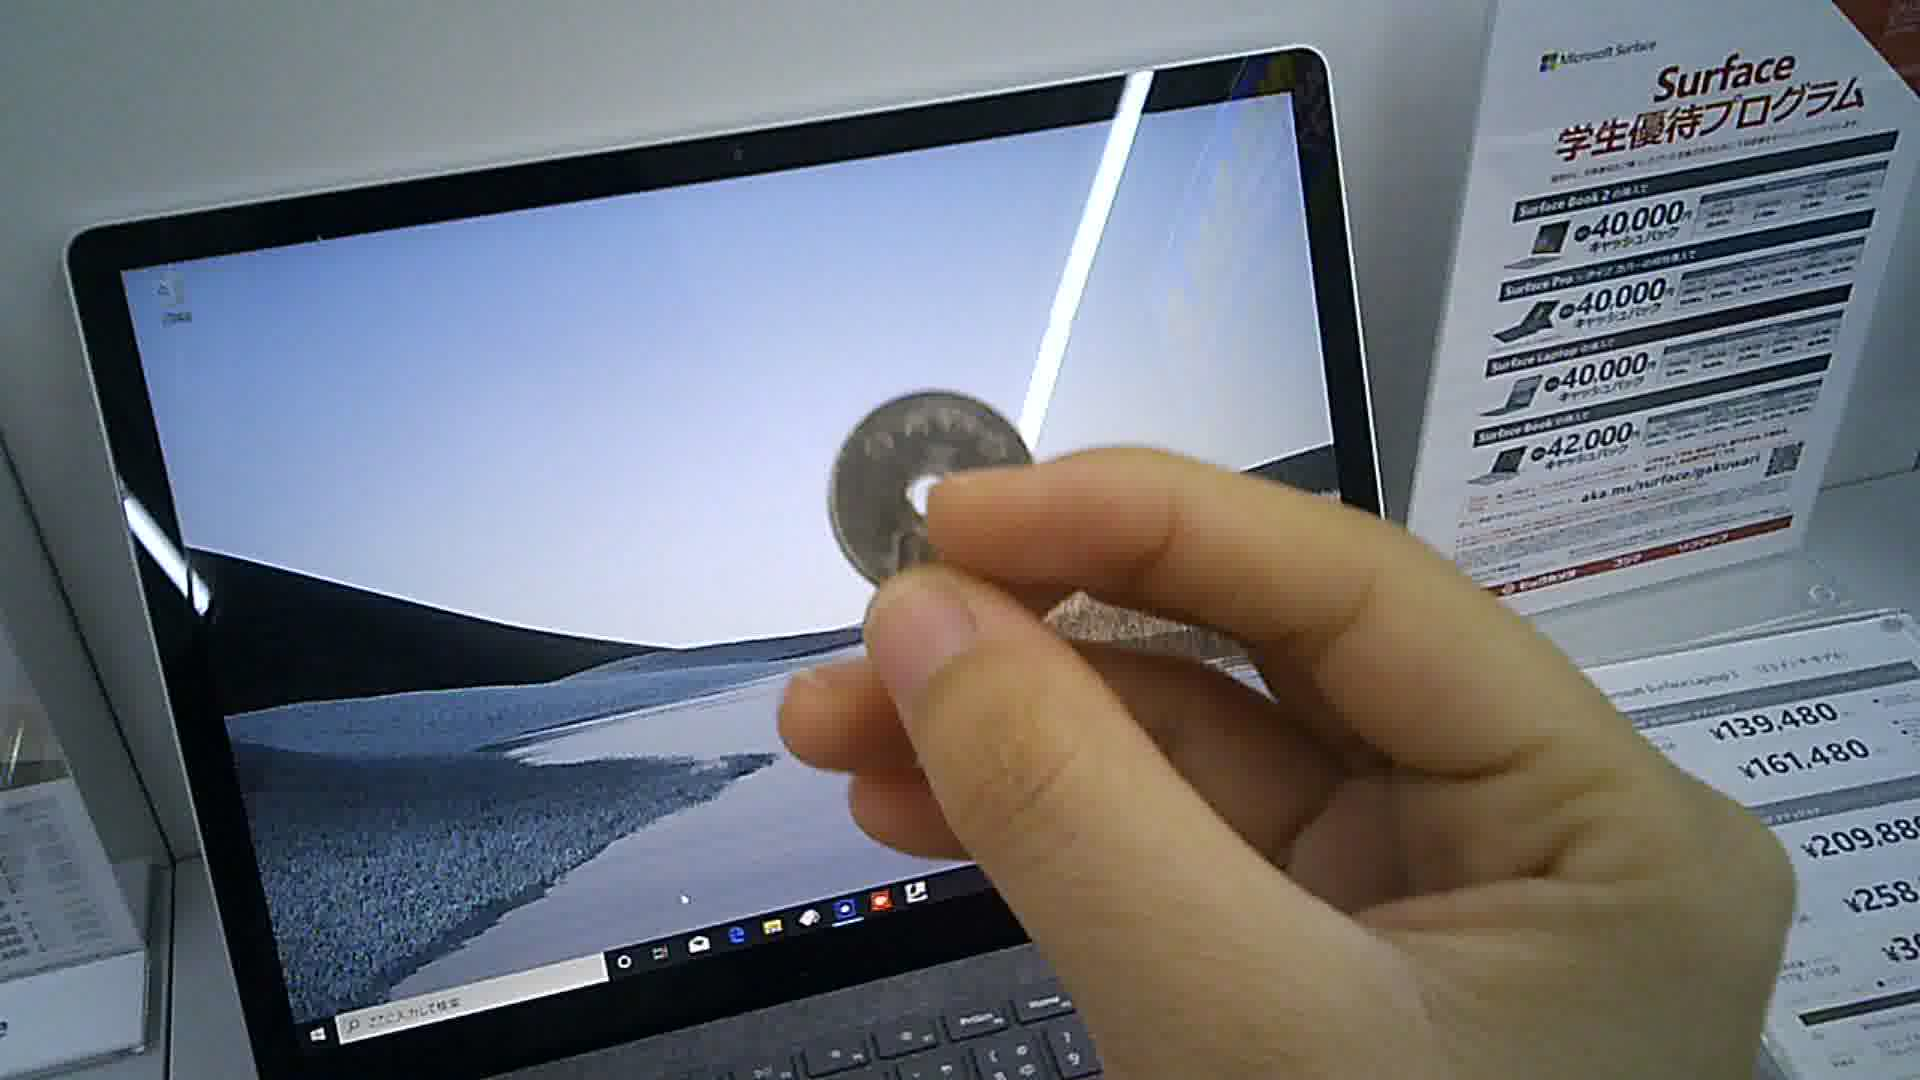50 Yen: (823, 386, 1048, 597)
